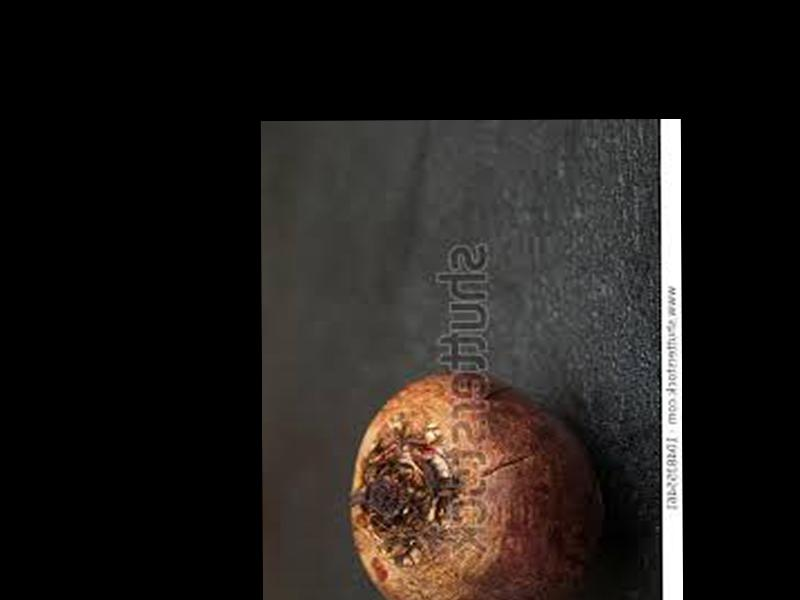Beet: (351, 374, 600, 600)
